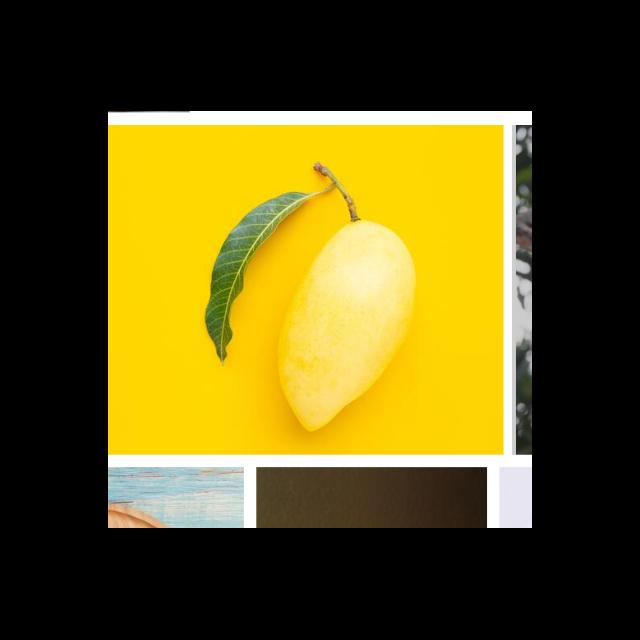mango: (275, 219, 419, 435)
